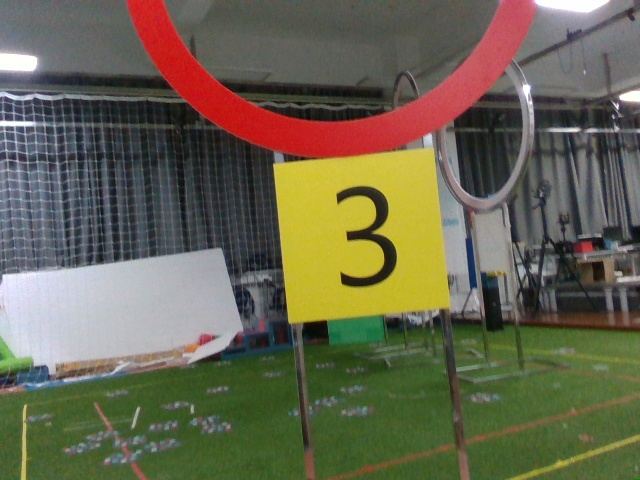target: (284, 161, 443, 308)
